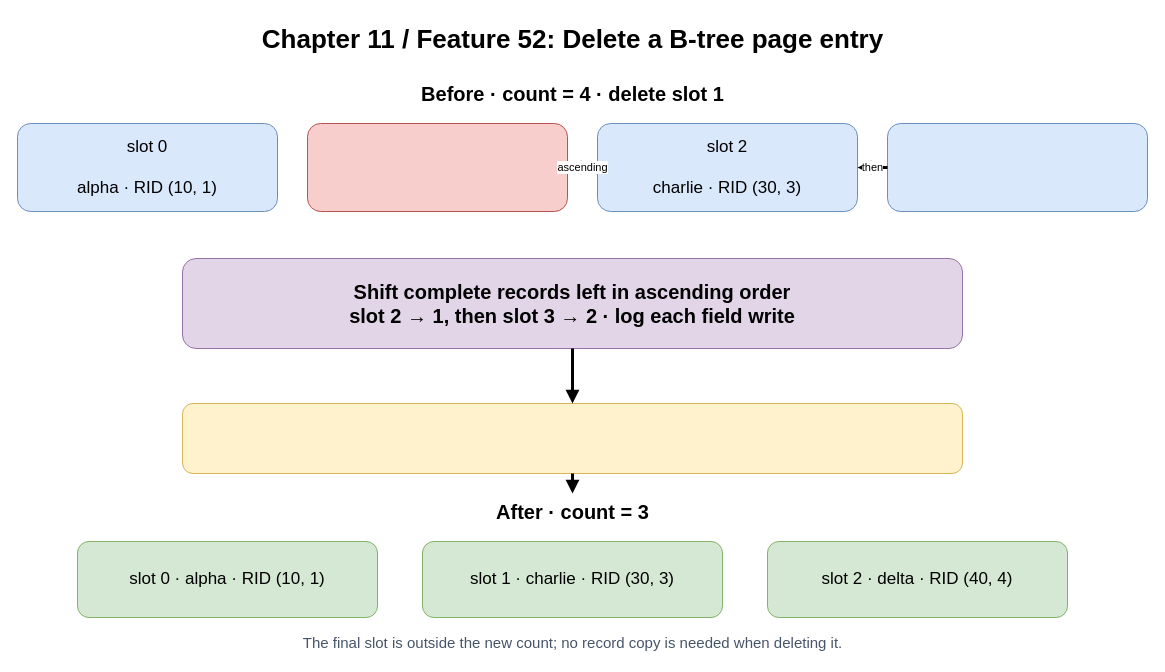
This 1165x672 diagram has some shape labels left out. Here are the shapes that lost their labels. From the top down, the centre of each, then its label:
the point at 437,167: slot 1 bravo · RID (20, 2) removed
the point at 1017,167: slot 3 delta · RID (40, 4)
the point at 572,438: After all copies succeed, decrement the page record count
